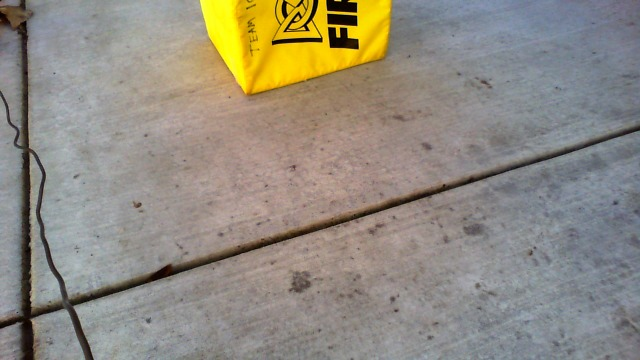cube: (197, 1, 394, 93)
